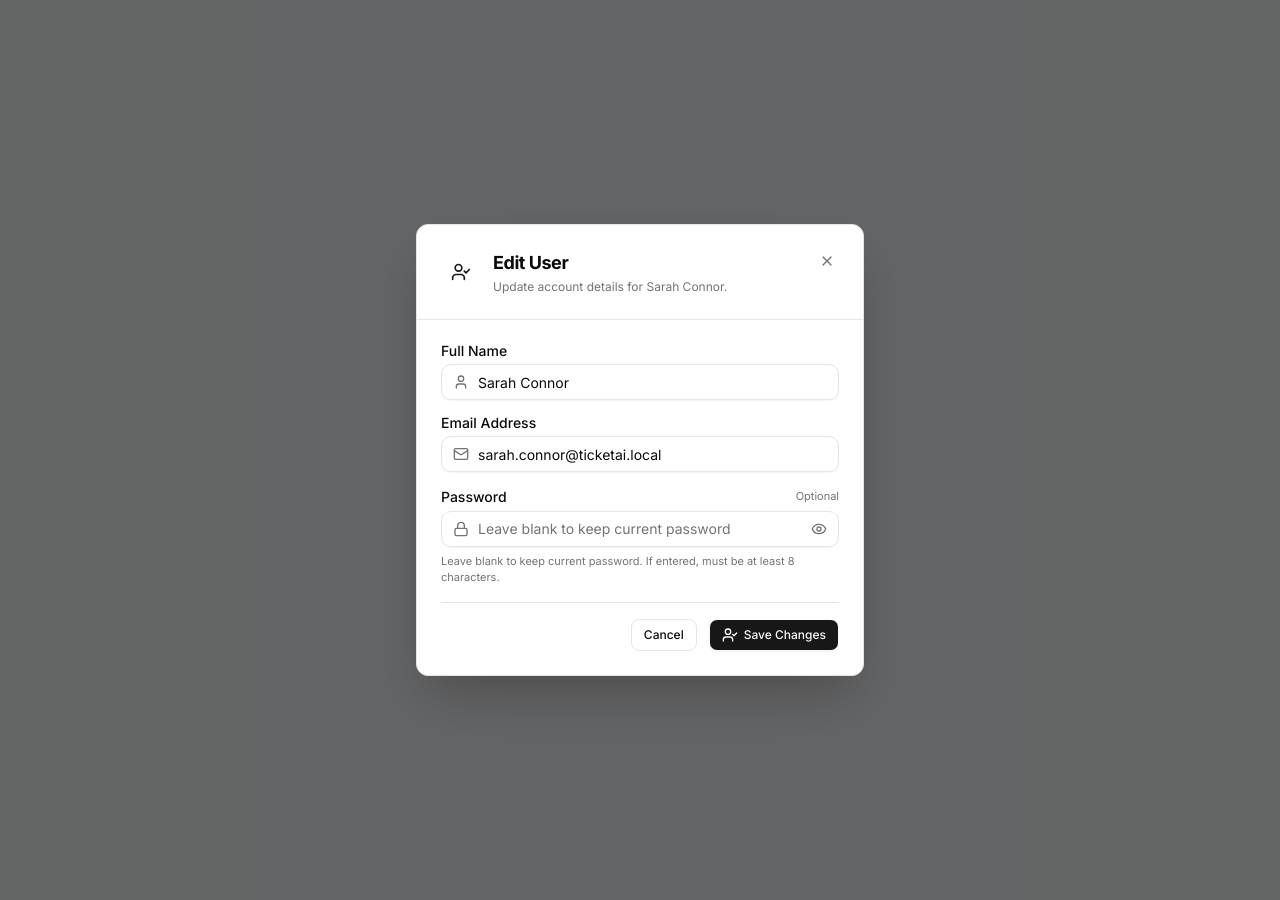
Test: EditUserModal Component Tests › 2. Form Validation Rules › shows error when name is shorter than 3 characters
This screenshot has width=1280, height=900.
Replace the text in the field labelled "Full Name" with "Jo". click: (640,382)
box: [441,364,839,400]
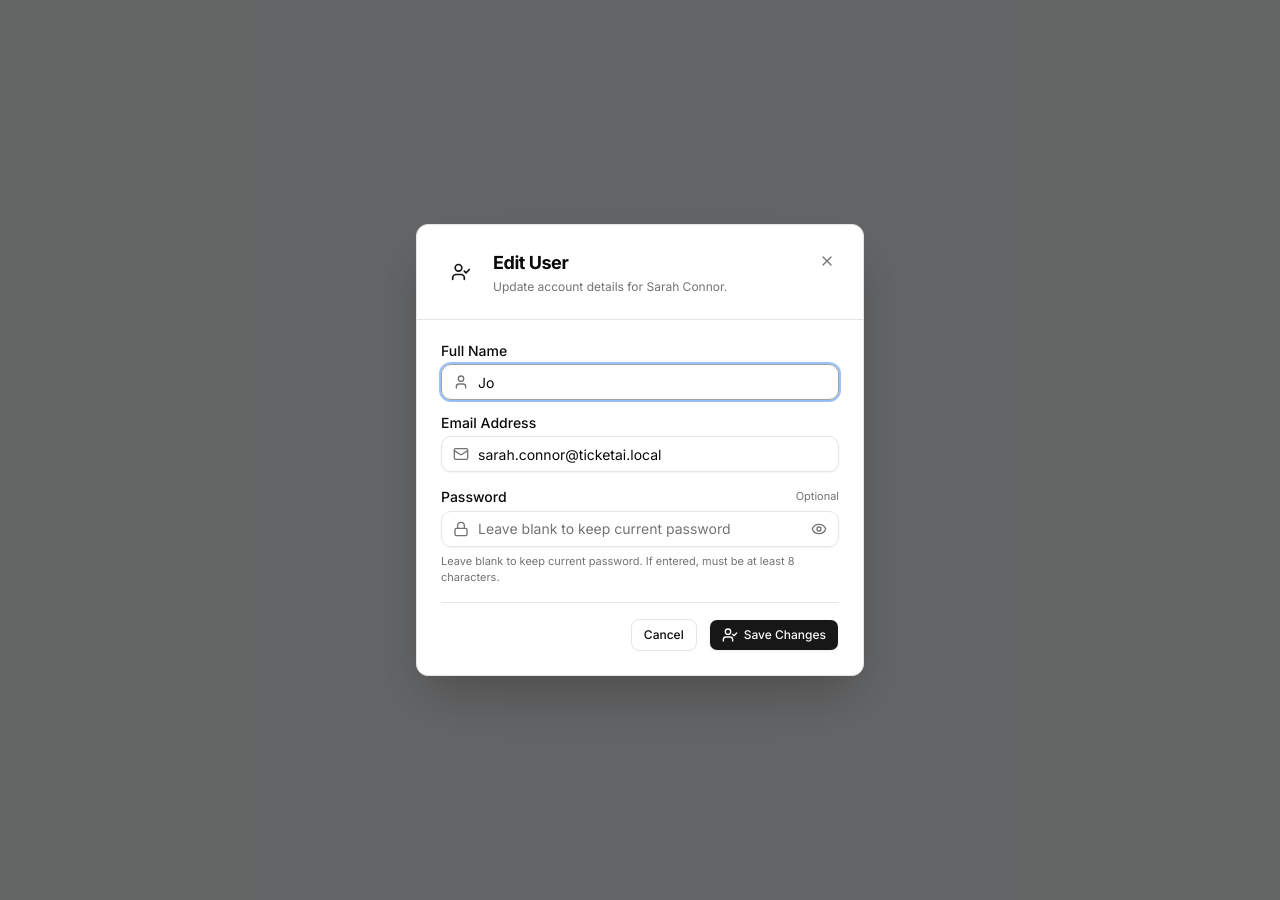
Click the button "Save Changes". click: (774,635)
box: [709,619,839,651]
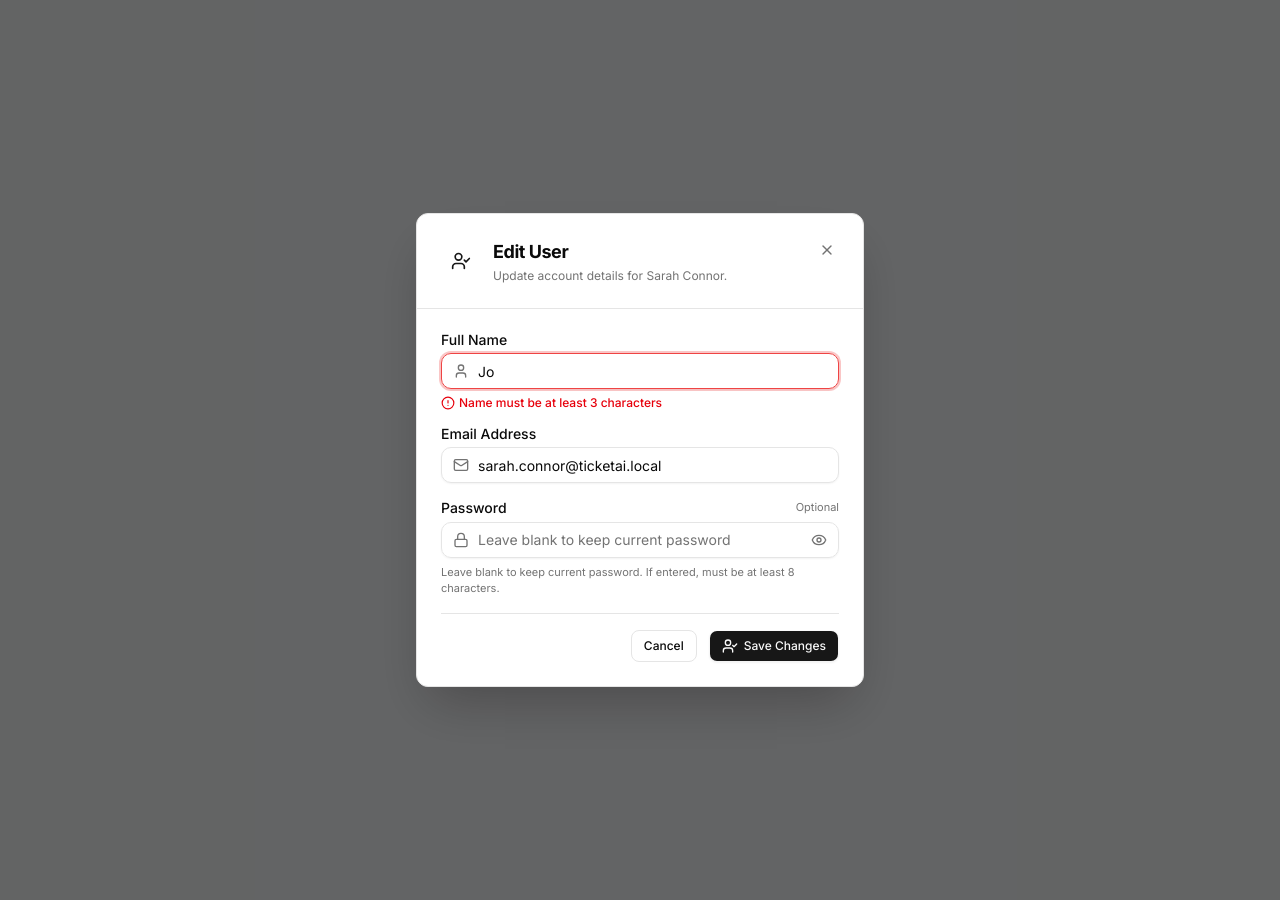
expect the text "Name must be at least 3 characters" is shown: met, box [459,395,662,411]
